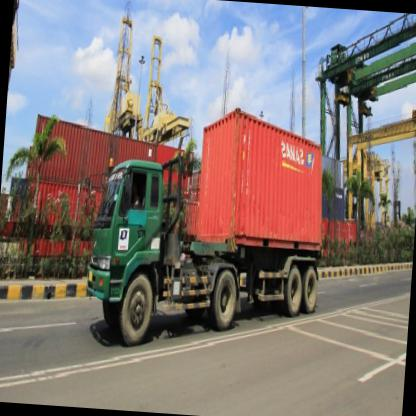truck: (82, 153, 172, 350)
